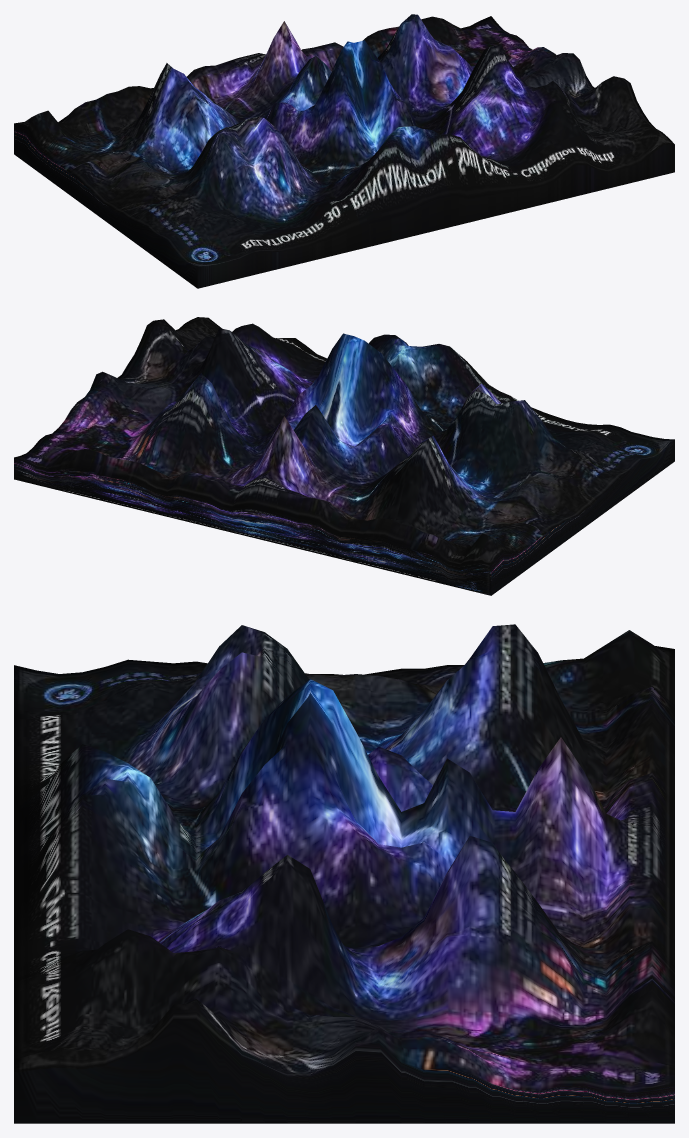
The model's file is RELATIONSHIP_30_Reincarnation.glb.
3 renders of one model, top to bottom at view 1: azimuth 30°, elevation 25°; view 2: azimuth 150°, elevation 25°; view 3: azimuth 270°, elevation 25°, orthographic. The views are drawn at different scales.
Parts seen in each view (by area): view 1: RELATIONSHIP_30_Reincarnation; view 2: RELATIONSHIP_30_Reincarnation; view 3: RELATIONSHIP_30_Reincarnation.
Boxes of the visible parts, x1,y1,x2,y2 form: RELATIONSHIP_30_Reincarnation: (14, 14, 674, 288); RELATIONSHIP_30_Reincarnation: (14, 317, 674, 595); RELATIONSHIP_30_Reincarnation: (14, 624, 674, 1123).
Bounding box in the file's own units: 2 × 0.51 × 1.33.
Materials: 1 (1 with a texture image).
